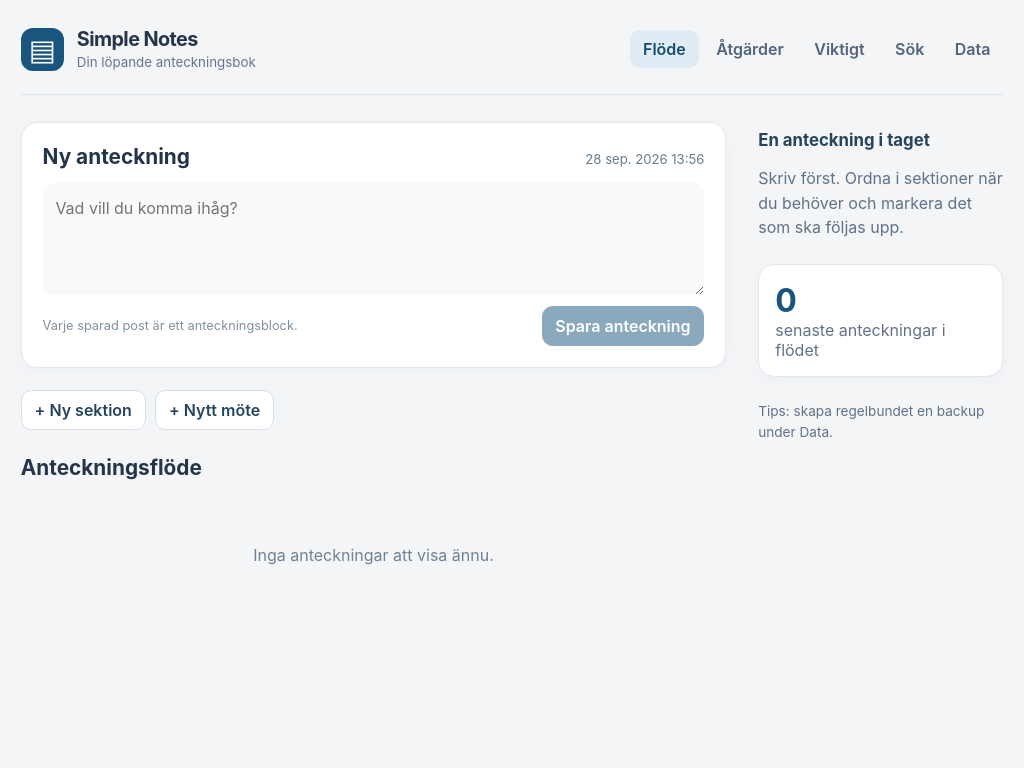
Test: Simple Notes app › creates, edits and marks a note, then finds it in special views
Expected: the button "Spara anteckning" is disabled, [542,306,704,346]
Type "En viktig idé" into the text box named "Skriv en anteckning".
click(374, 239); type("En viktig idé")  # box [43,183,704,295]
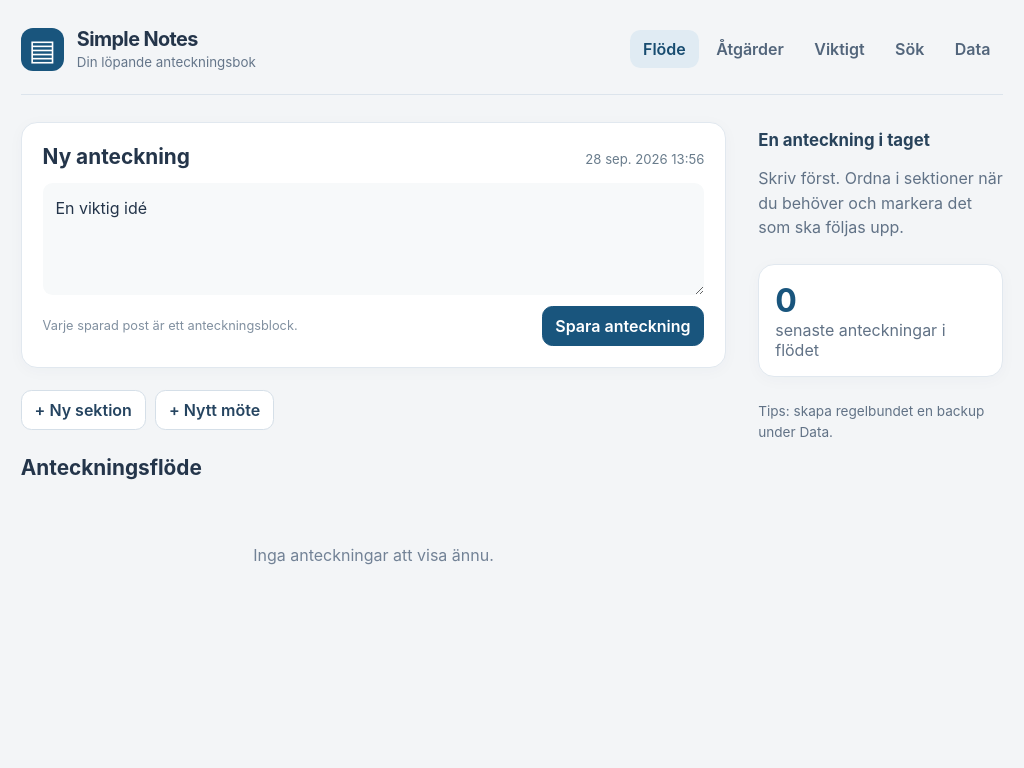
Click the button "Spara anteckning".
click(623, 326)  # box [542,306,704,346]
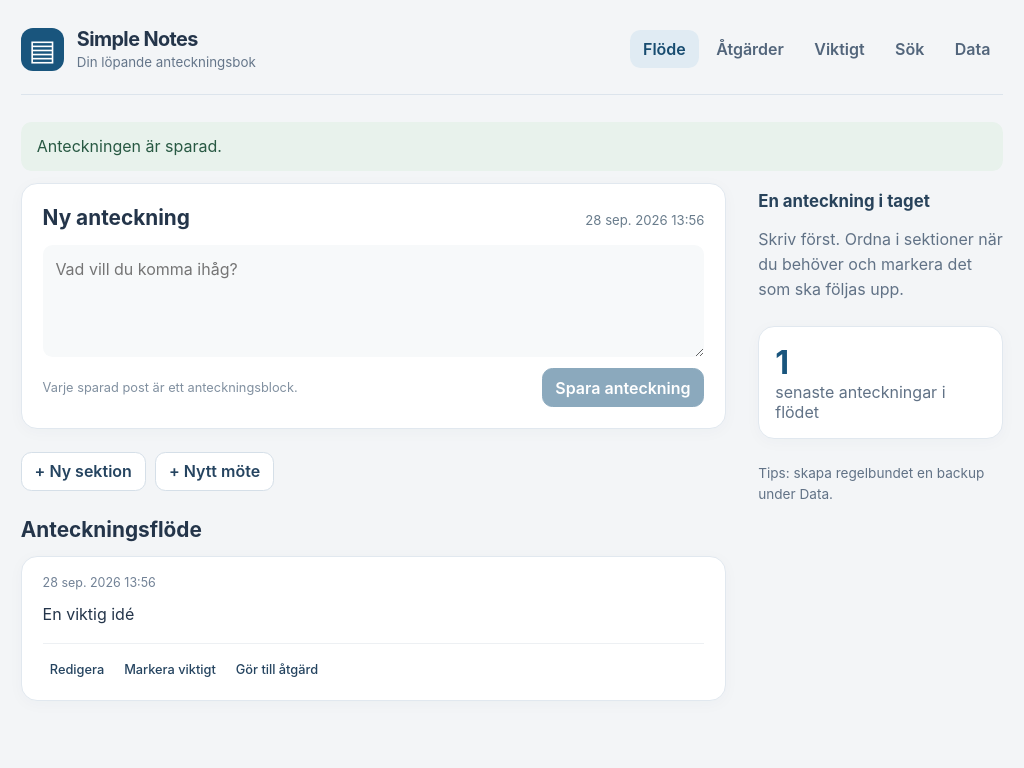
Expected: the text "En viktig idé" is shown, [43,604,134,624]
Click the button "Markera viktigt".
click(170, 669)  # box [117,656,223,682]
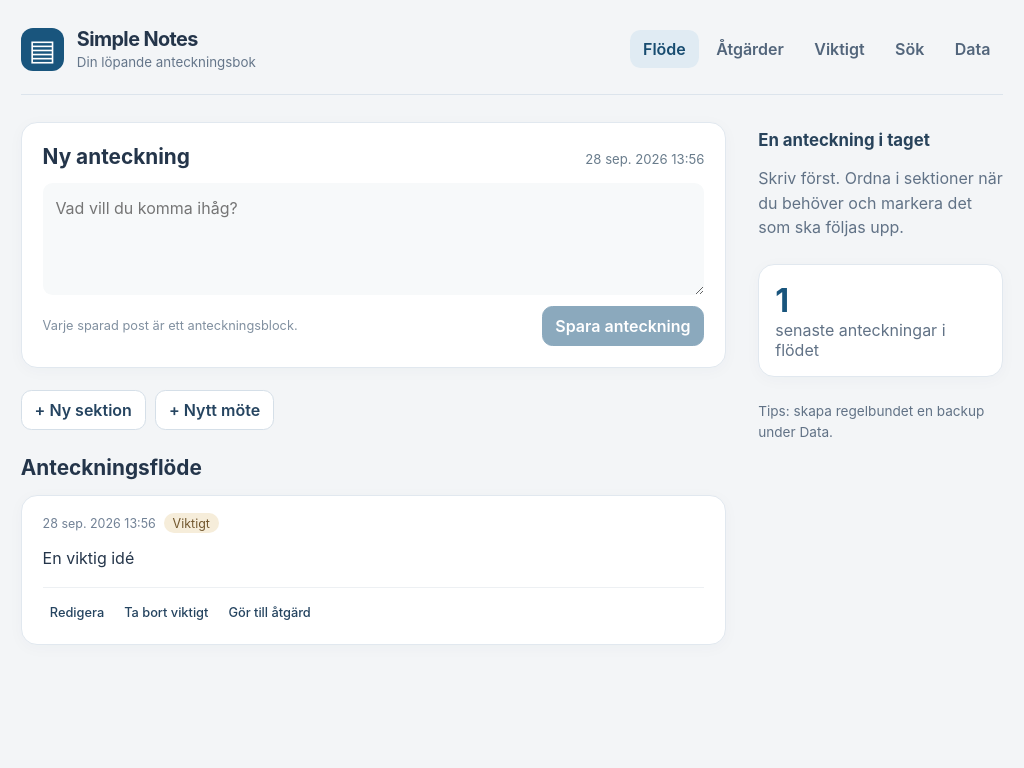
Expected: the text "Viktigt" is shown, [164,513,219,533]
Click the button "Viktigt".
click(840, 49)  # box [802,30,878,68]
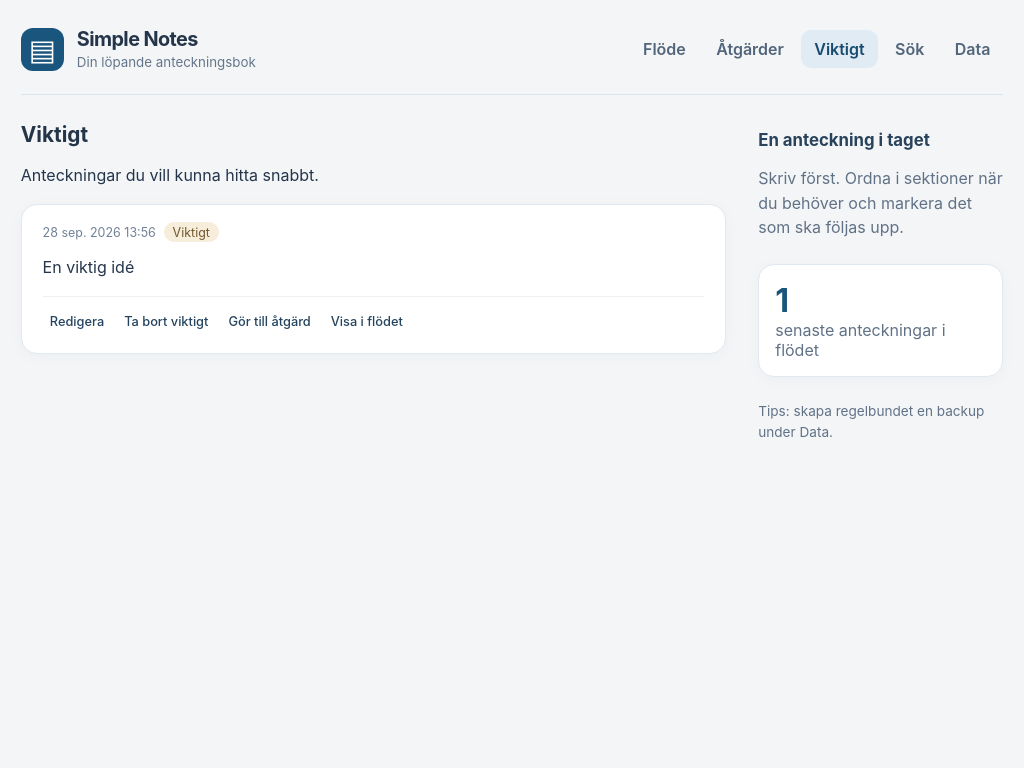
Expected: the text "En viktig idé" is shown, [43,257,134,277]
Click the button "Sök".
click(910, 49)  # box [882,30,937,68]
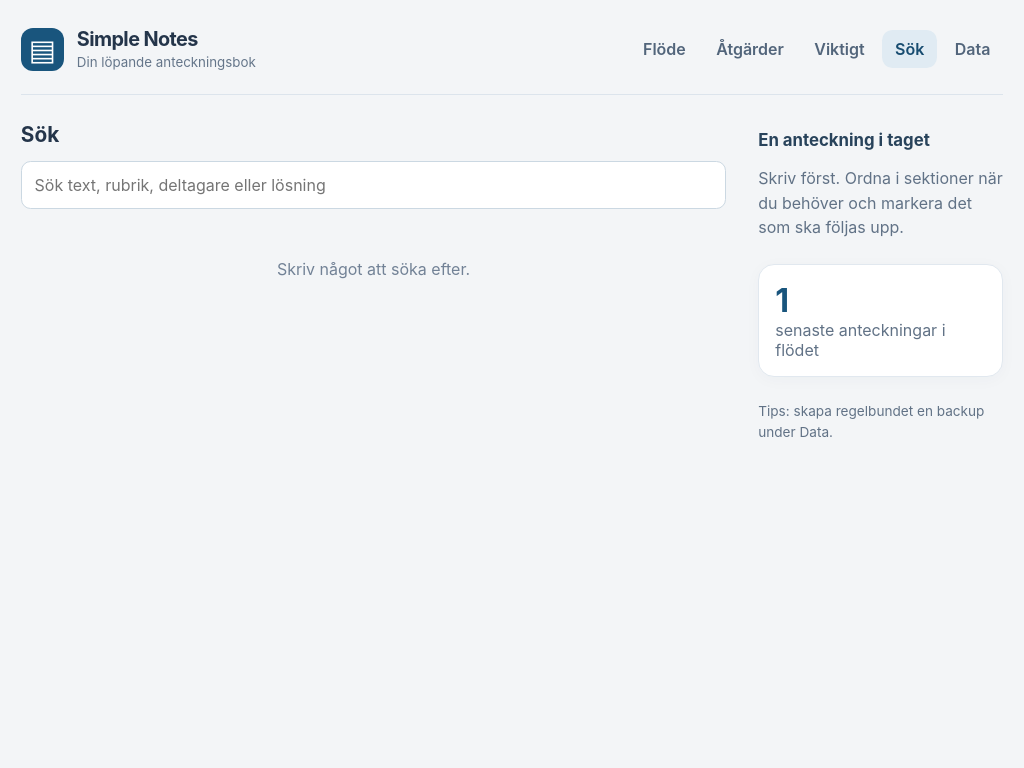
Type "VIKTIG" into the search field named "Sök i anteckningarna".
click(374, 185); type("VIKTIG")  # box [21,161,726,209]
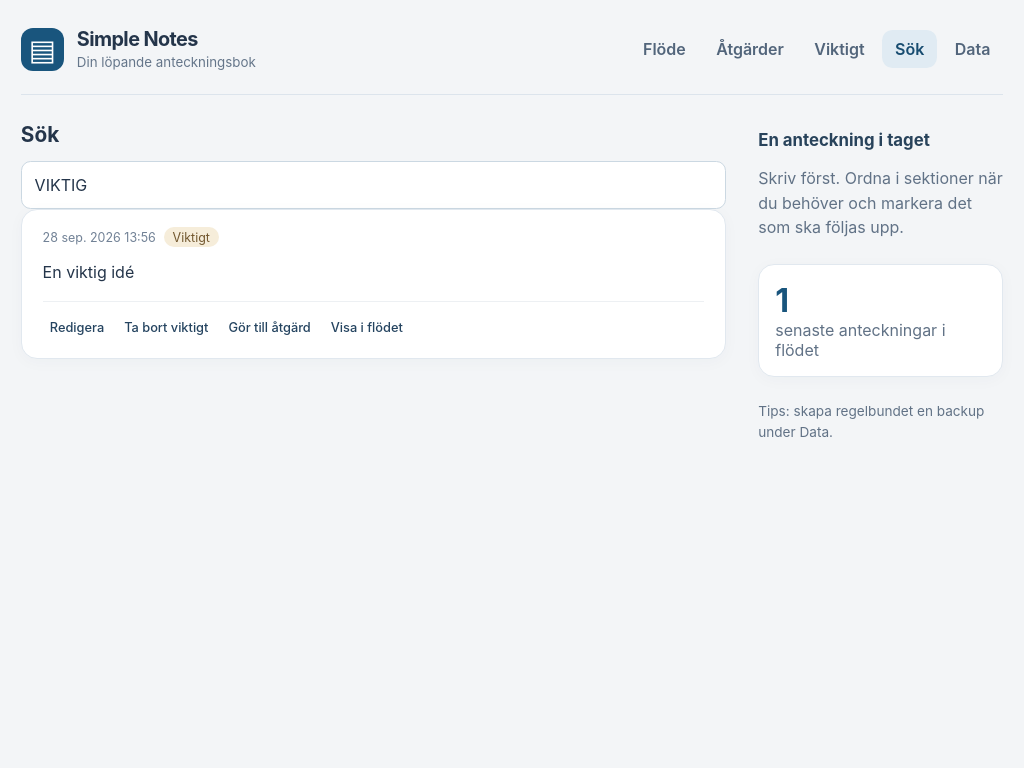
Expected: the text "En viktig idé" is shown, [43,262,134,282]
